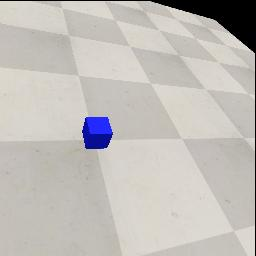box: (82, 117, 113, 149)
